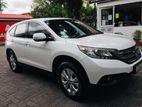car: (3, 19, 142, 99)
